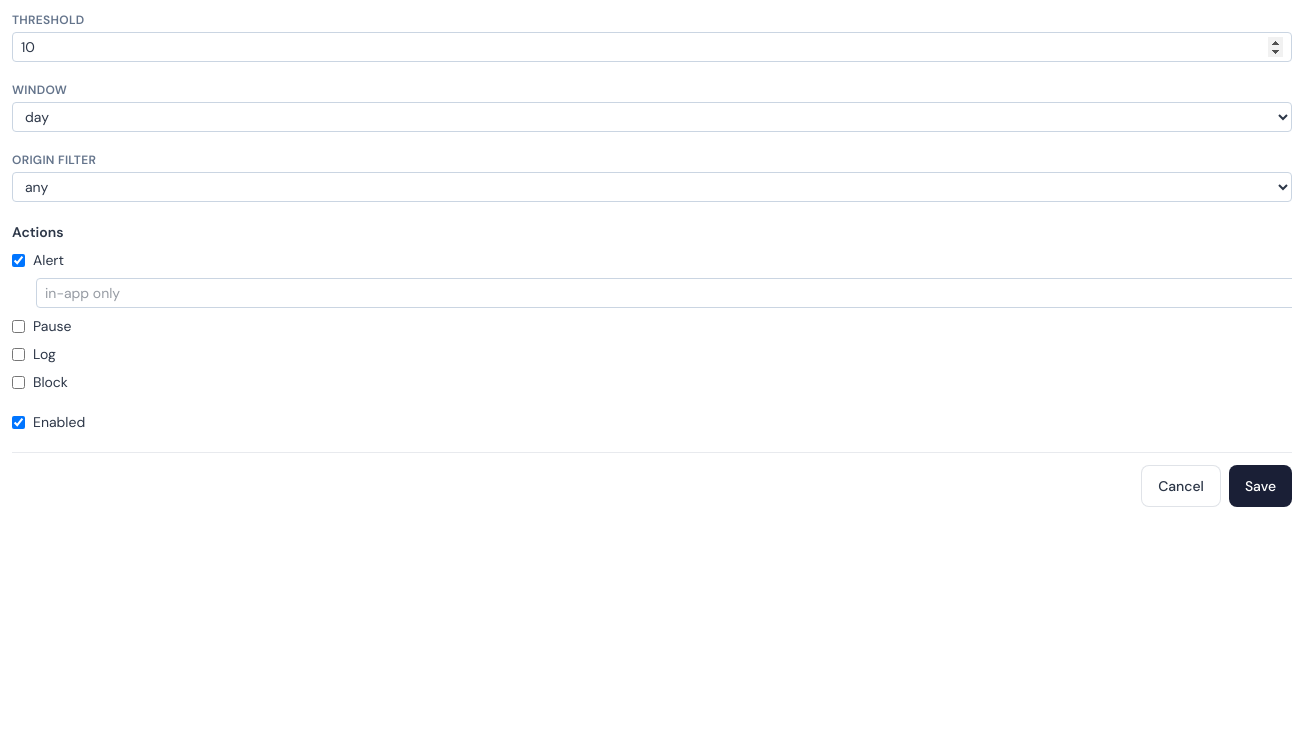
RuleDrawerBody validation › disables Save when pause is checked with an invalid duration
This screenshot has width=1304, height=732.
Click the checkbox labelled "Pause": (18,326) [12,320,25,332]
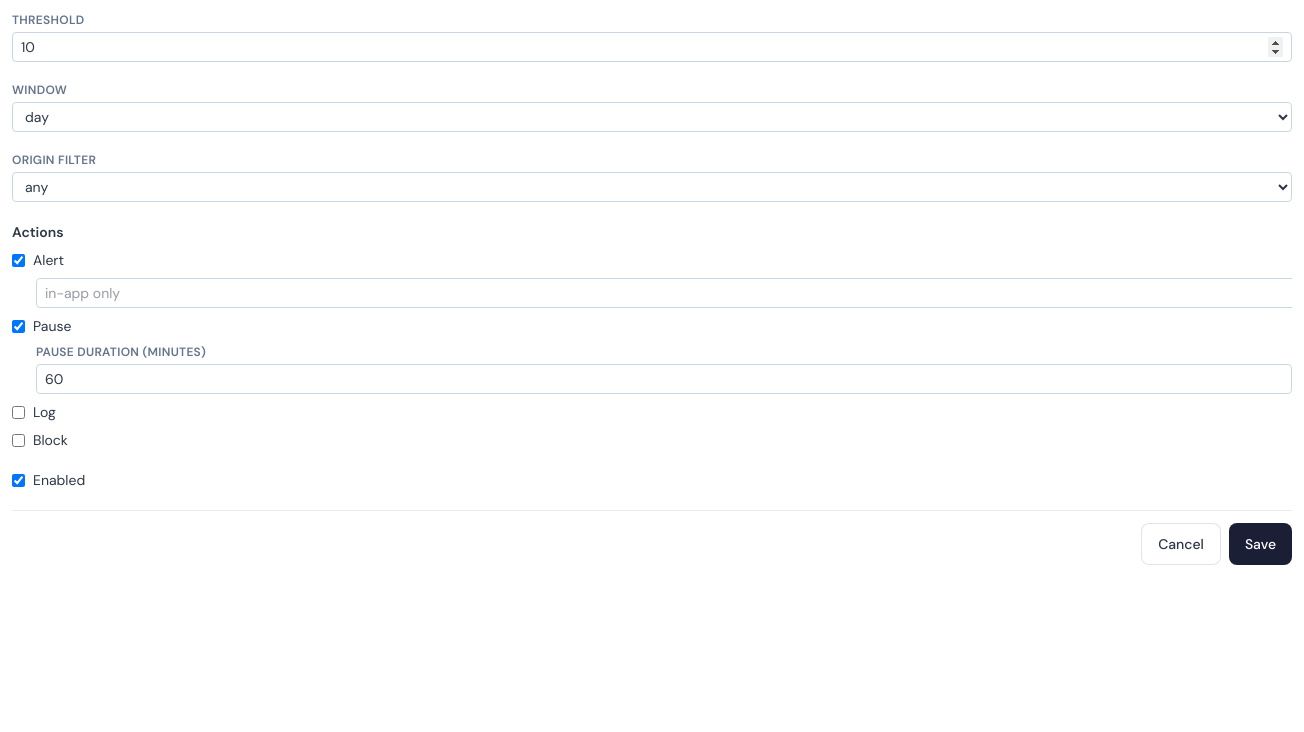
Expected: the button "Save" is enabled, [1229,523,1292,565]
Clear the number field labelled "Pause duration (minutes)": (664,379) [36,364,1292,394]
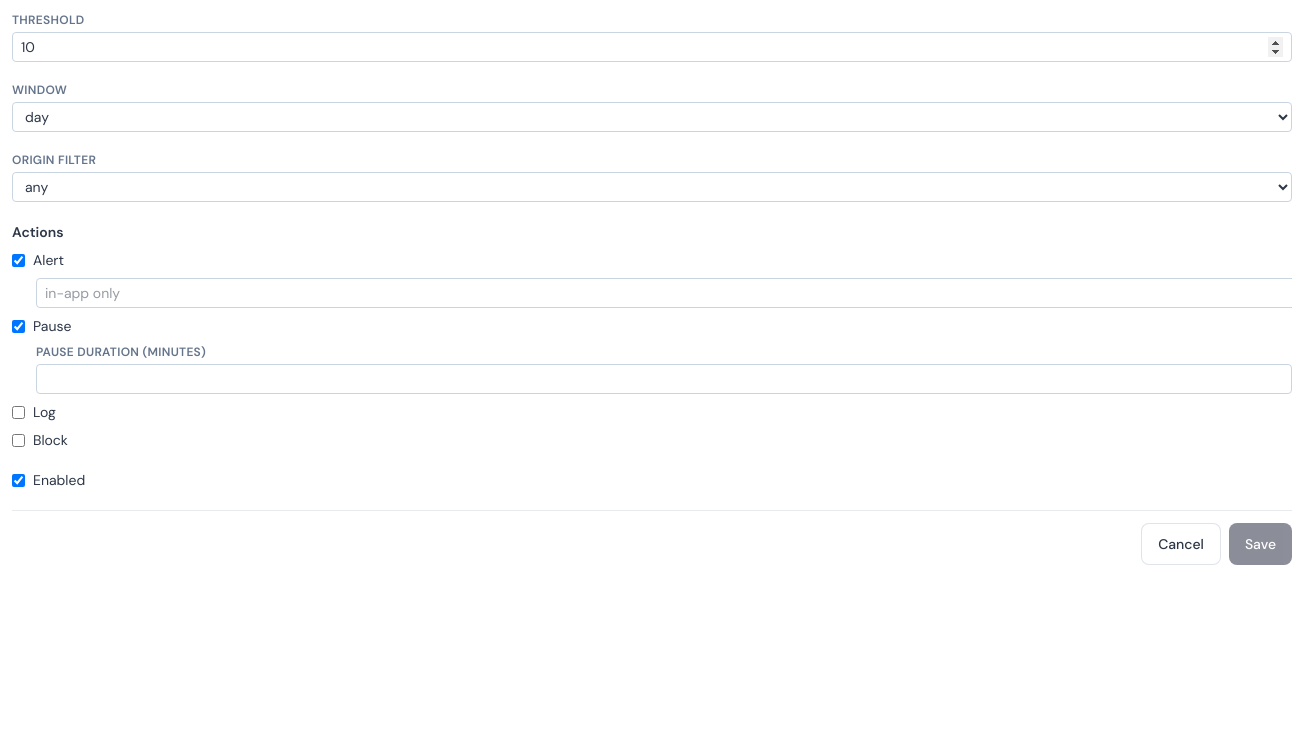
Expected: the button "Save" is disabled, [1229,523,1292,565]
In the number field labelled "Pause duration (minutes)": (664,379) [36,364,1292,394], type "30"
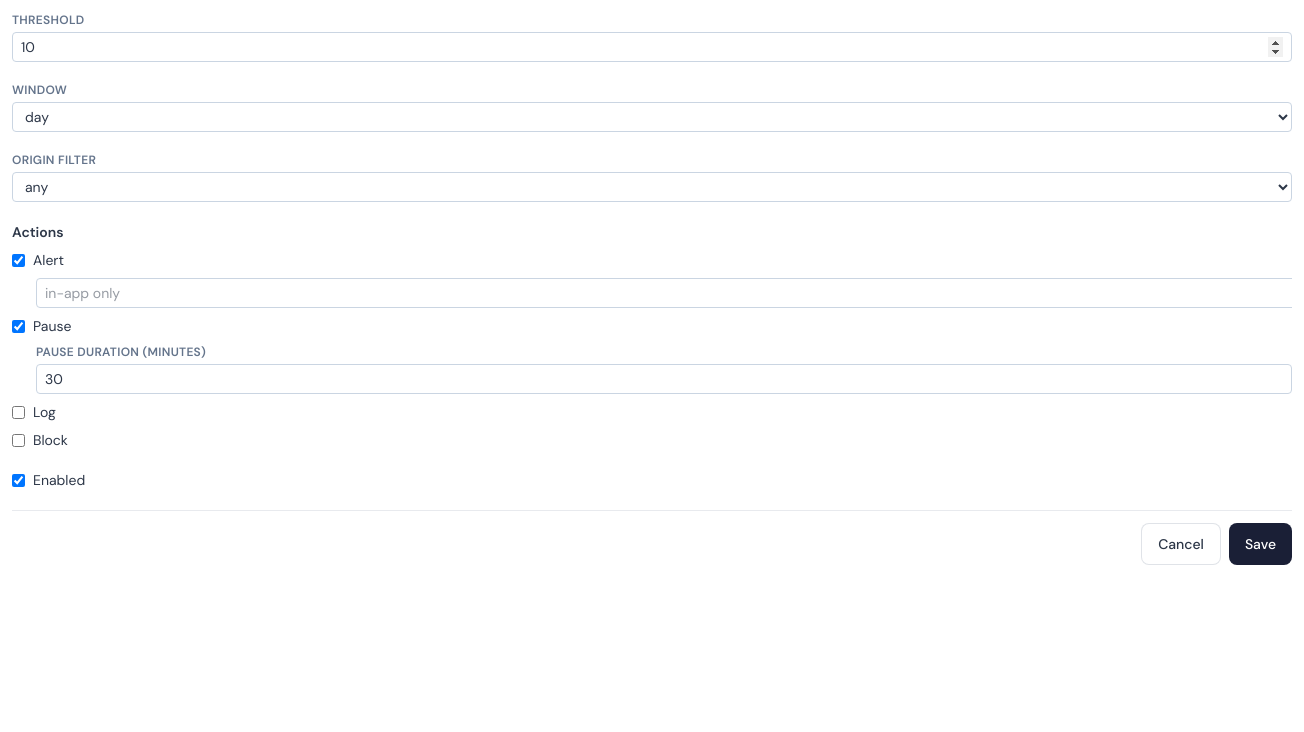
Expected: the button "Save" is enabled, [1229,523,1292,565]
